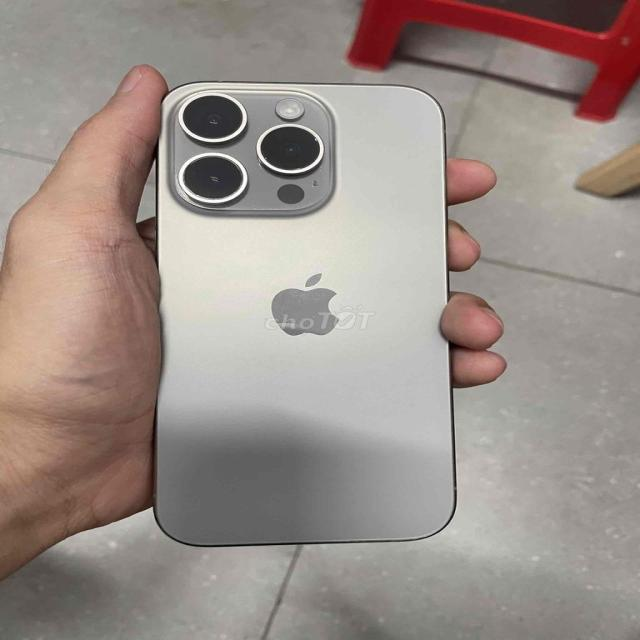gen_15: (150, 75, 467, 555)
physical_damage: (141, 264, 180, 412)
scratch: (171, 88, 334, 214)
